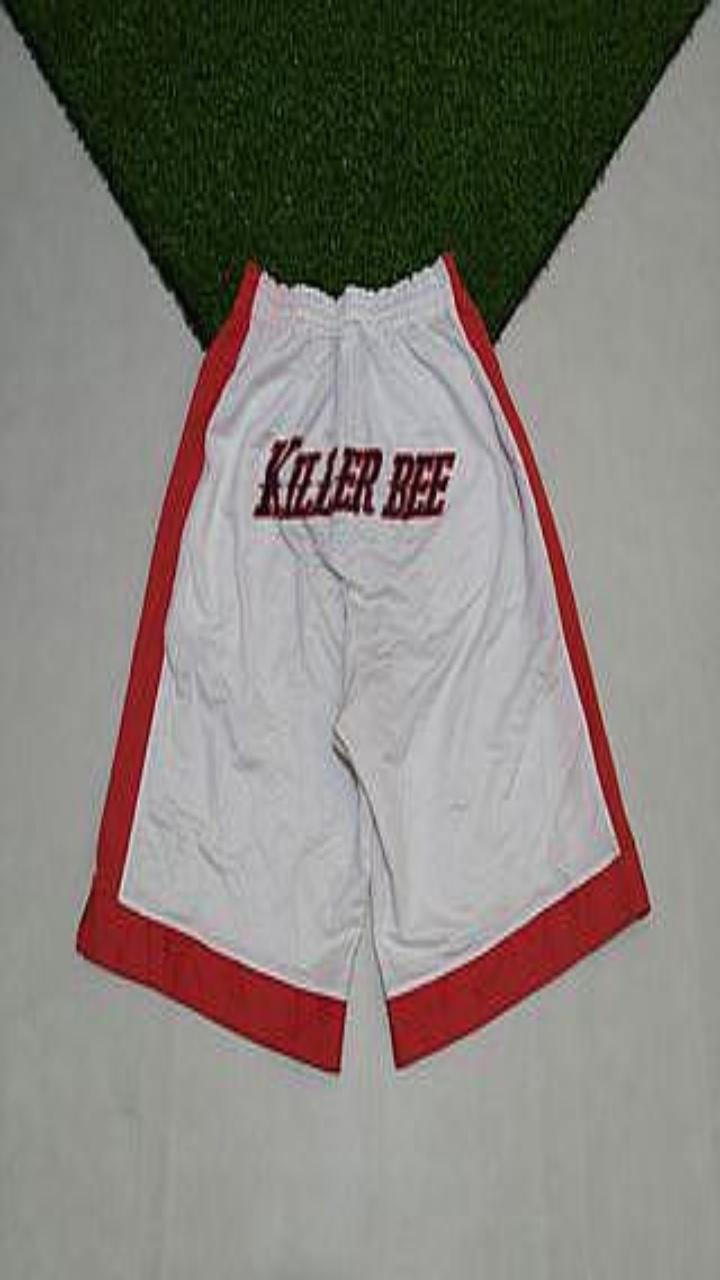Shorts: (77, 252, 649, 1070)
